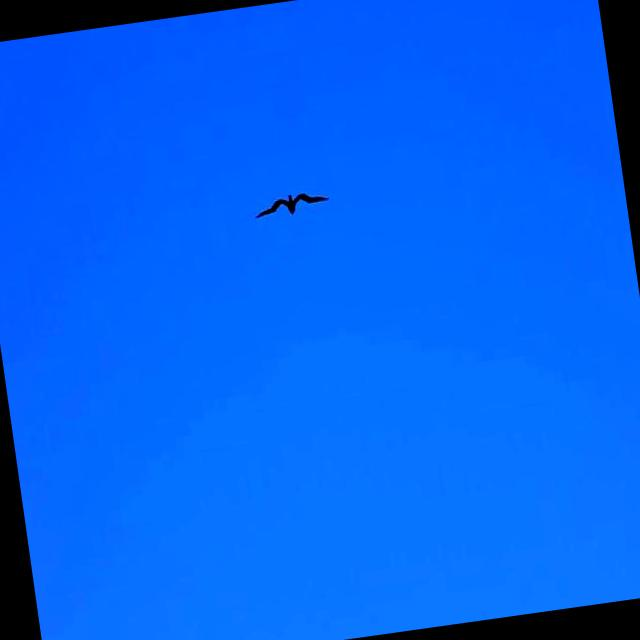bird: (246, 175, 332, 238)
